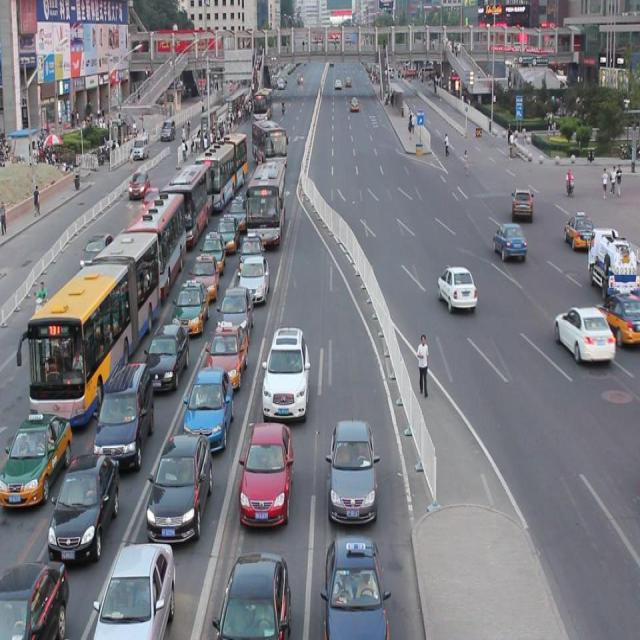bus: (587, 225, 640, 298)
car: (94, 538, 175, 640), (48, 452, 120, 554), (321, 535, 389, 640), (148, 428, 213, 536), (214, 551, 290, 640), (0, 411, 70, 503), (94, 358, 154, 461), (0, 554, 68, 640), (327, 417, 380, 517), (240, 422, 294, 517), (262, 325, 310, 415), (185, 364, 233, 442), (552, 303, 613, 363), (146, 317, 189, 386), (594, 286, 640, 346), (205, 320, 248, 384), (218, 284, 254, 339), (436, 264, 476, 312), (174, 278, 210, 330), (241, 252, 270, 298), (491, 222, 526, 260), (190, 250, 220, 294), (563, 210, 594, 251), (79, 234, 113, 269), (200, 229, 226, 269), (240, 228, 263, 270), (216, 210, 239, 246), (510, 185, 533, 220), (227, 191, 250, 226), (130, 170, 150, 197), (142, 186, 159, 209)
van: (16, 230, 160, 421), (123, 187, 186, 296), (197, 125, 247, 203), (246, 161, 286, 248), (168, 158, 208, 241), (251, 120, 288, 170)
